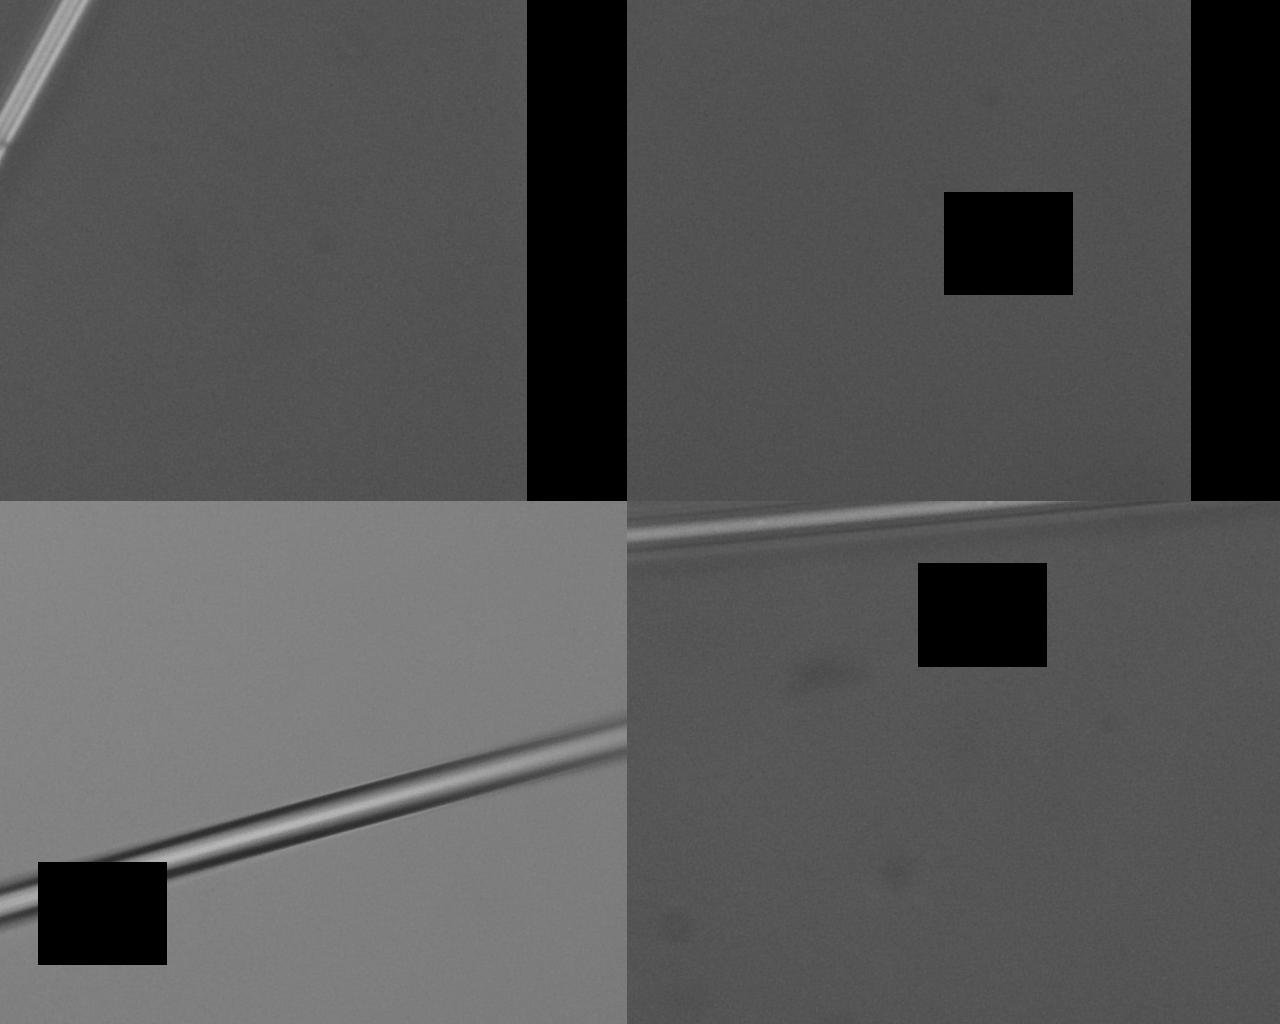fiber: (0, 347, 896, 645), (896, 629, 1260, 857), (0, 254, 896, 307), (896, 169, 1280, 207)
